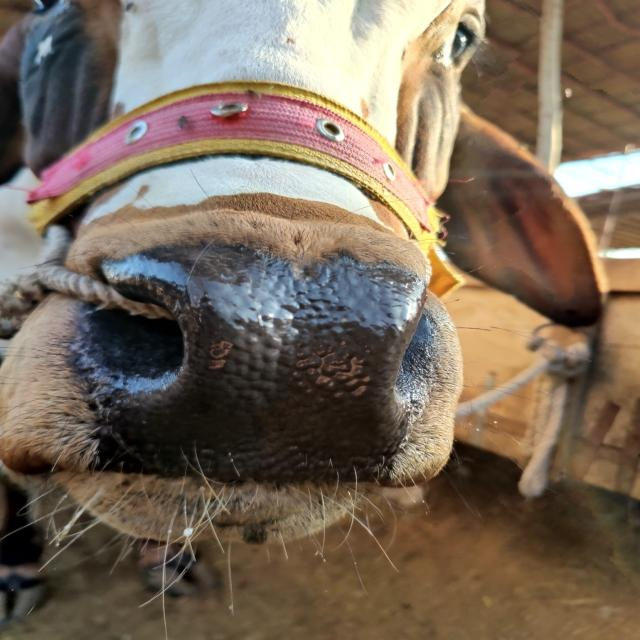muzzles: (67, 234, 444, 486)
